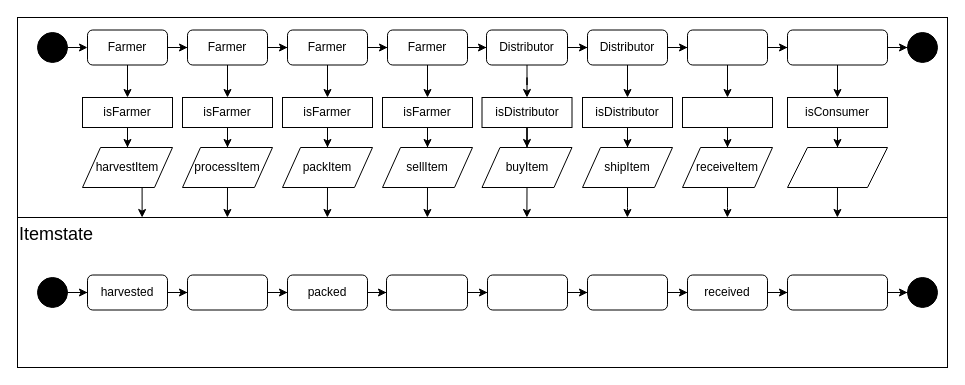
Image size: 965x385. Some labels were removed from this diagram. The shapes that lost their labels are listed below. From the top down, each one's centre as x and y in pixels, then its label:
At (x=727, y=47): "Retailor".
At (x=837, y=47): "Consumer".
At (x=727, y=112): "isRetailor".
At (x=837, y=167): "purchaseItem".
At (x=227, y=292): "processed".
At (x=427, y=292): "for sale".
At (x=527, y=292): "sold".
At (x=627, y=292): "shipped".
At (x=837, y=292): "purchased".
